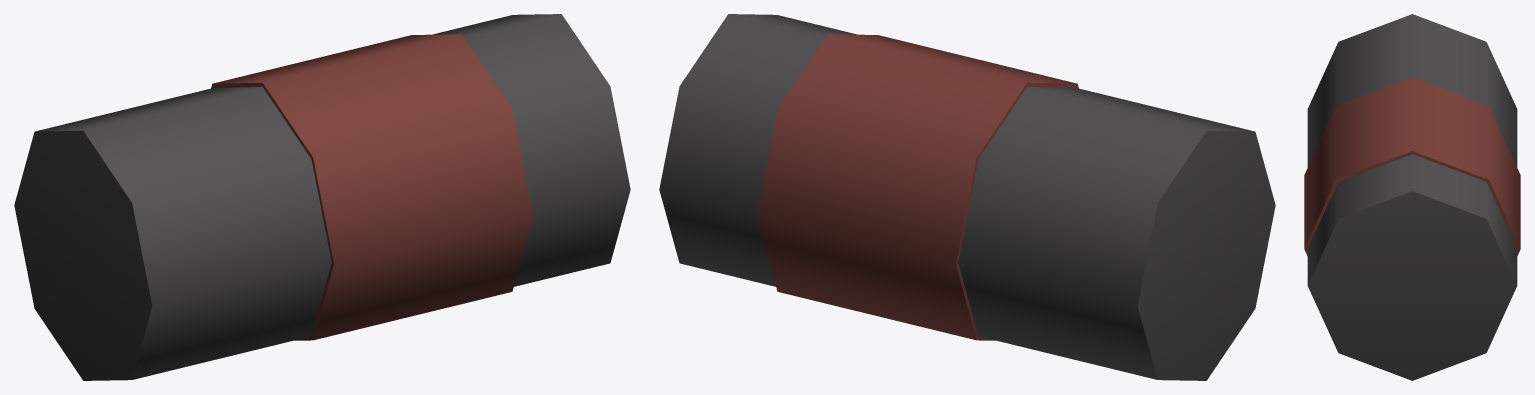
Rendered from flamethrower-ammo.glb.
The picture shows the model from 3 angles, left to right: view 1: azimuth 30°, elevation 25°; view 2: azimuth 150°, elevation 25°; view 3: azimuth 270°, elevation 25°; orthographic projection. The views are drawn at different scales.
Parts seen in each view (by area): view 1: flamethrower-ammo; view 2: flamethrower-ammo; view 3: flamethrower-ammo.
Part boxes in pixels (x1=…): flamethrower-ammo: x1=14, y1=14, x2=630, y2=380; flamethrower-ammo: x1=659, y1=14, x2=1275, y2=380; flamethrower-ammo: x1=1304, y1=14, x2=1520, y2=380.
Bounding box in the file's own units: 0.24 × 0.124 × 0.124.
